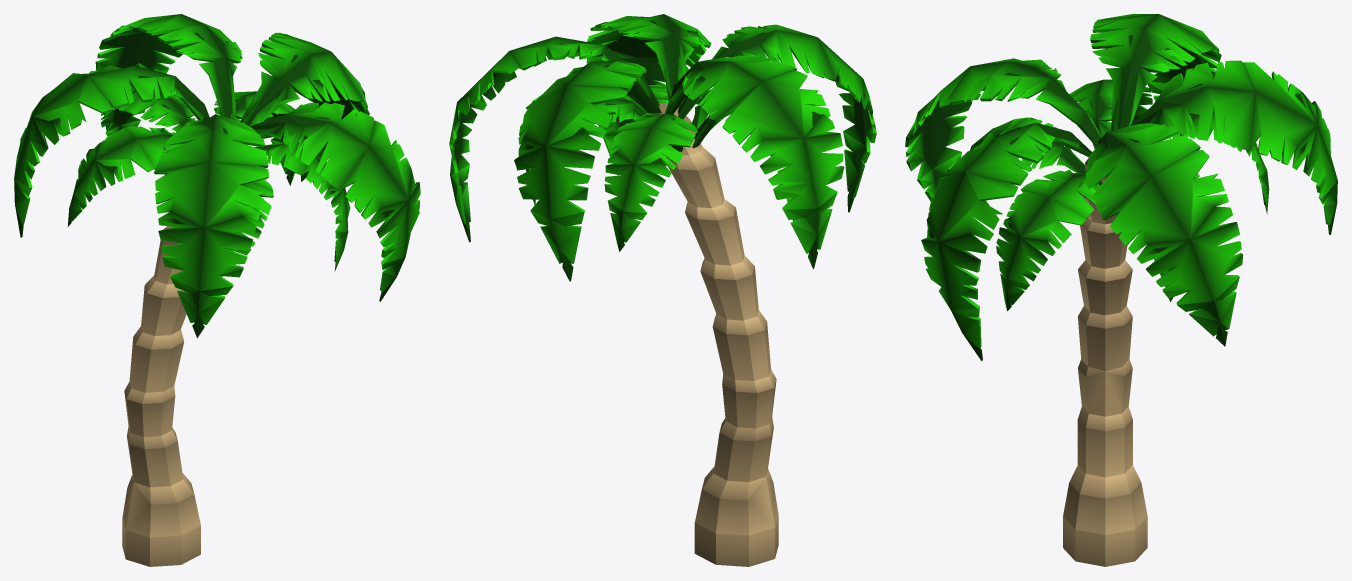
File: palm4.fbx
3 renders of one model, left to right at view 1: azimuth 30°, elevation 25°; view 2: azimuth 150°, elevation 25°; view 3: azimuth 270°, elevation 25°, orthographic. The views are drawn at different scales.
Visible parts, largest first — view 1: palm4_LOD0; view 2: palm4_LOD0; view 3: palm4_LOD0.
Boxes of the visible parts, bbox=[...] form: palm4_LOD0: bbox=[14, 14, 420, 566]; palm4_LOD0: bbox=[449, 14, 876, 566]; palm4_LOD0: bbox=[905, 14, 1337, 566].
Size of what is drawn, in the model's own units: 3.64 by 4.81 by 3.67.
